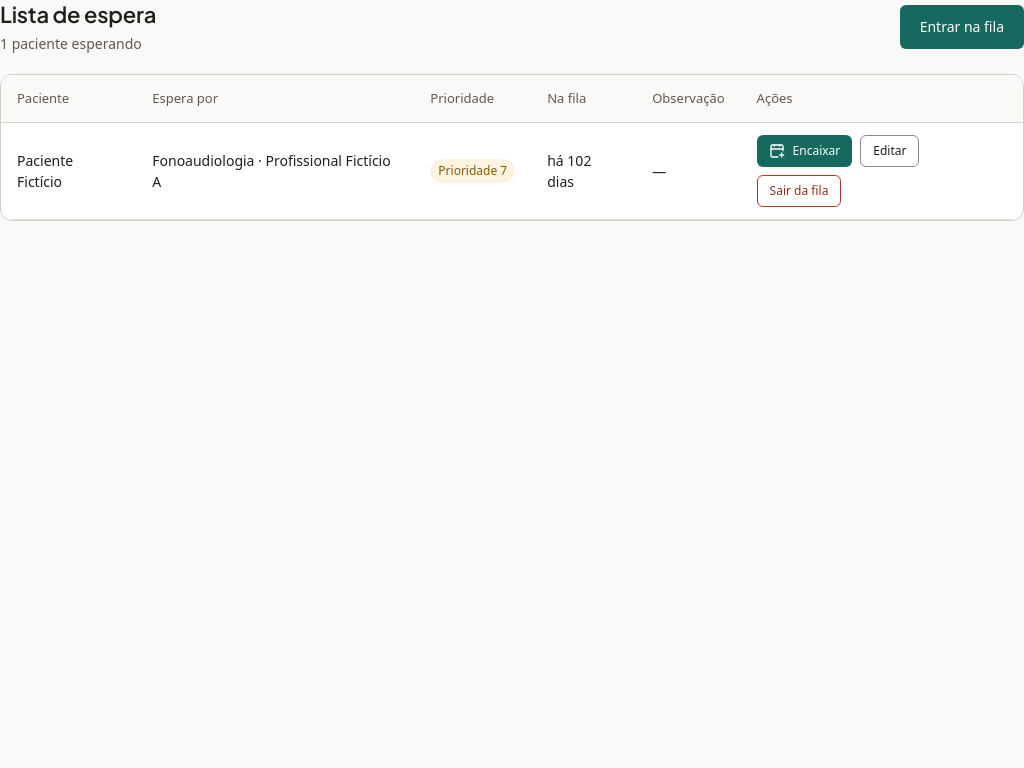
it: Lista de espera — a fila › deve manter na tela a prioridade que não é um dos três degraus
Expected: the text "Prioridade 7" is shown, x1=430 y1=159 x2=515 y2=183
Click the button "Editar" at (890, 151), box x1=860 y1=135 x2=920 y2=167
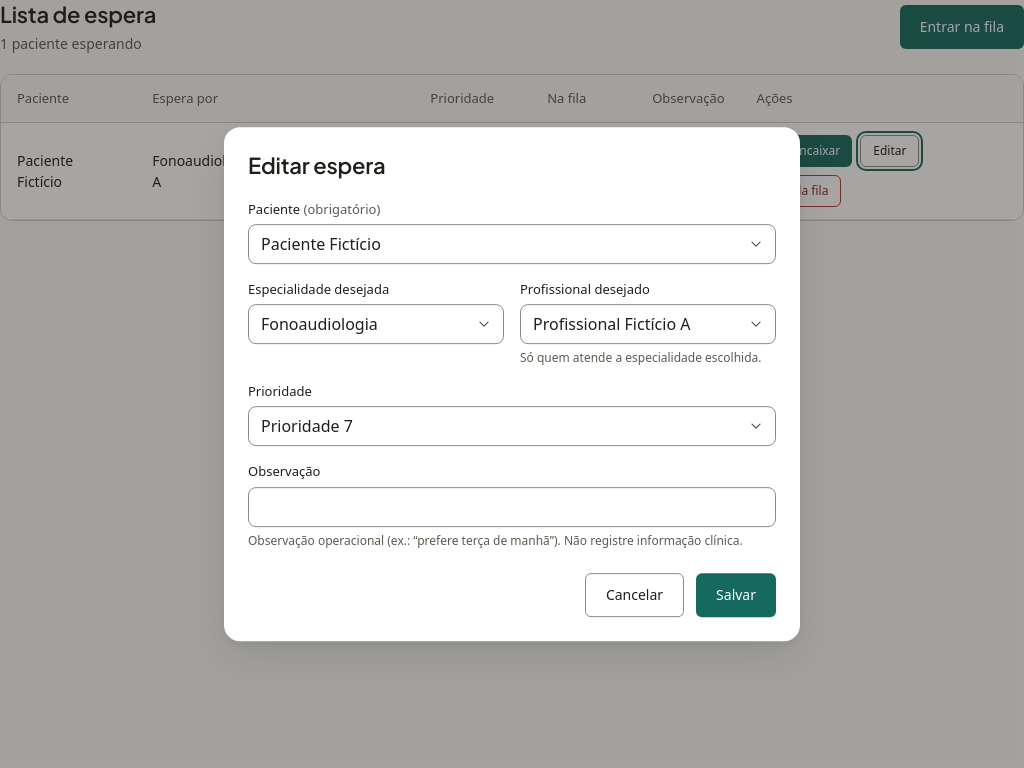
Now the dropdown labelled "Prioridade" shows "Prioridade 7", box x1=248 y1=406 x2=776 y2=446
